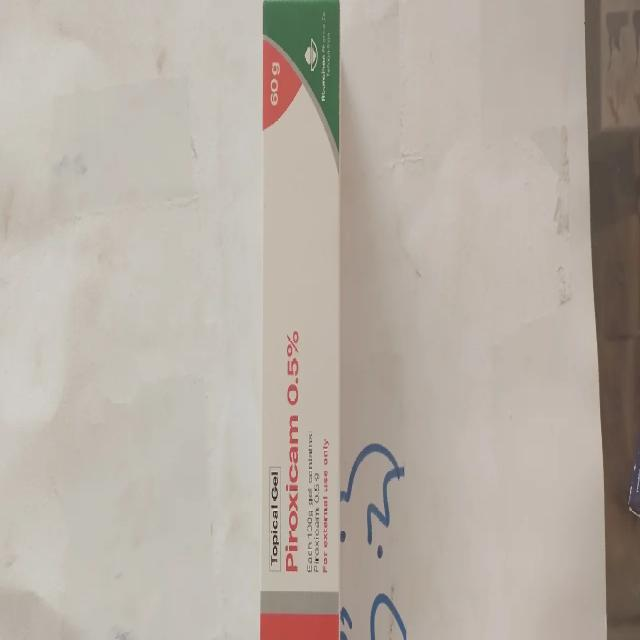drug-name: (282, 320, 302, 572)
